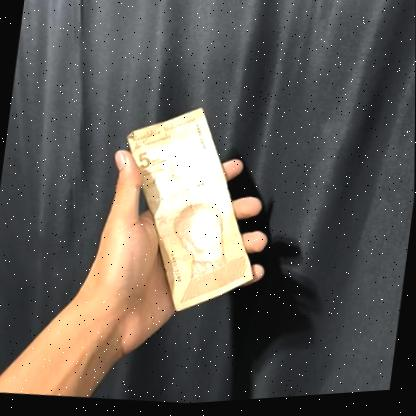five-front-vef: (107, 96, 275, 328)
